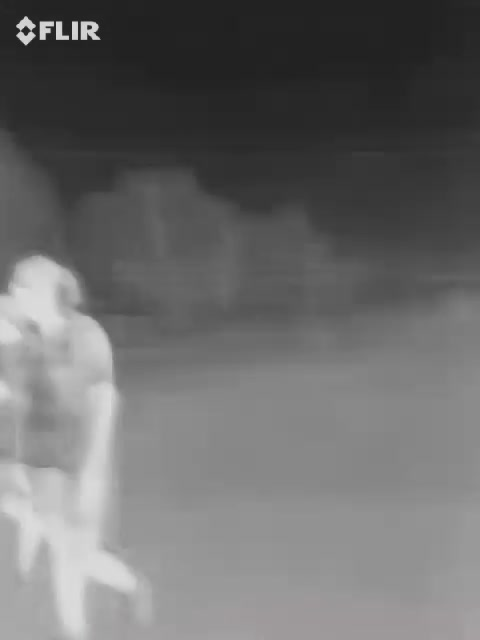head: (11, 257, 85, 333)
